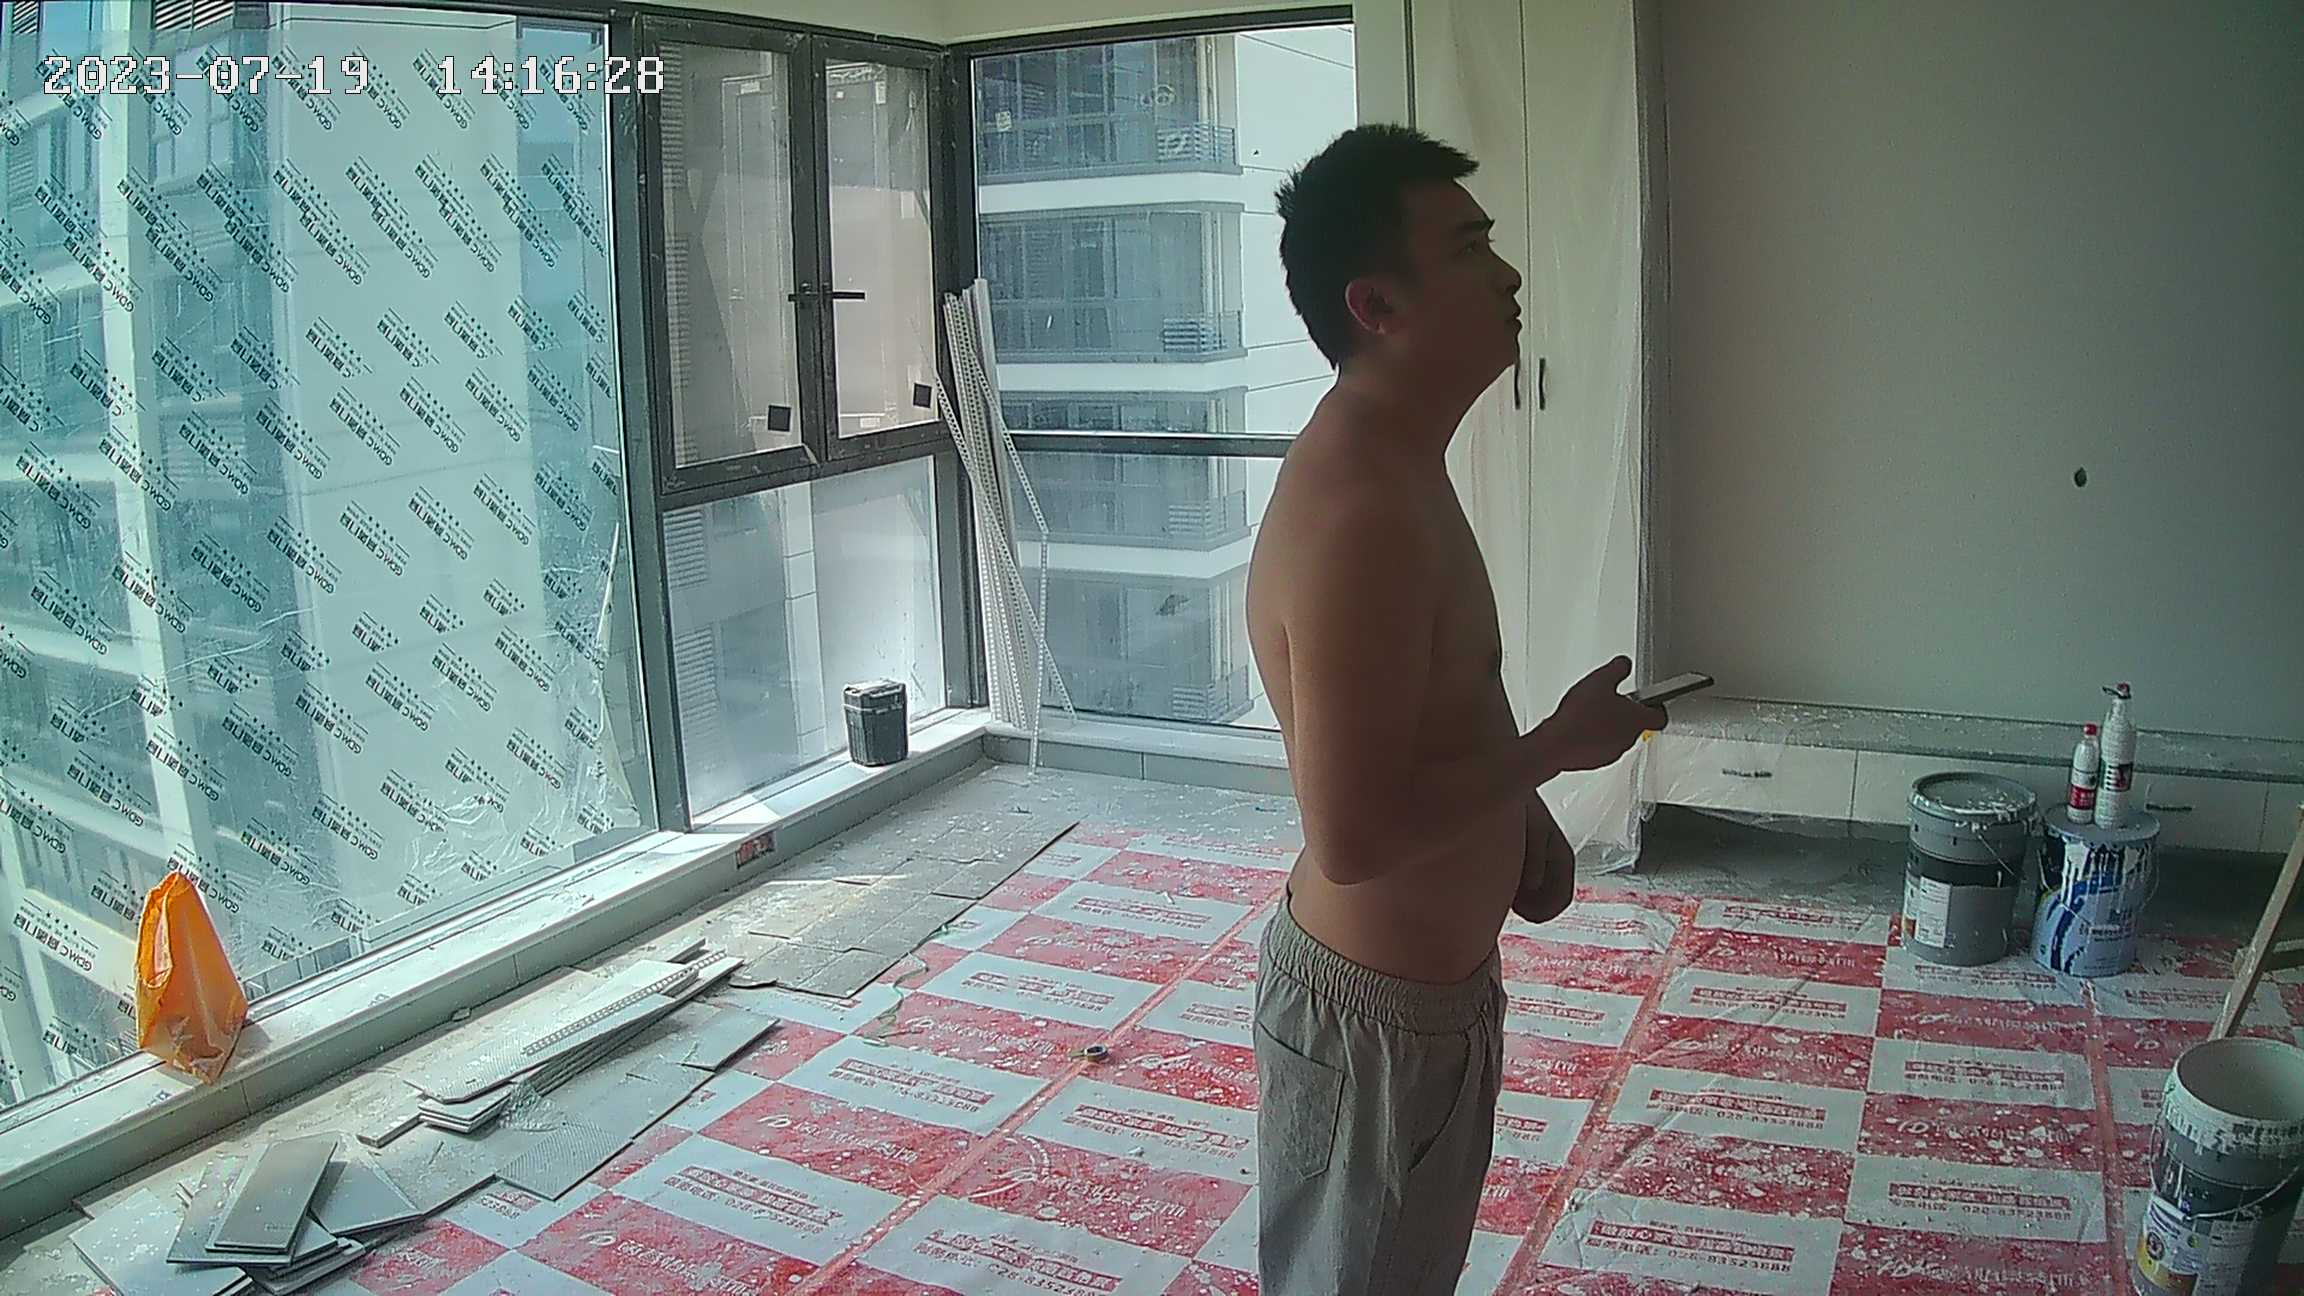people: (1234, 122, 1668, 1296)
window: (4, 21, 1351, 1007)
